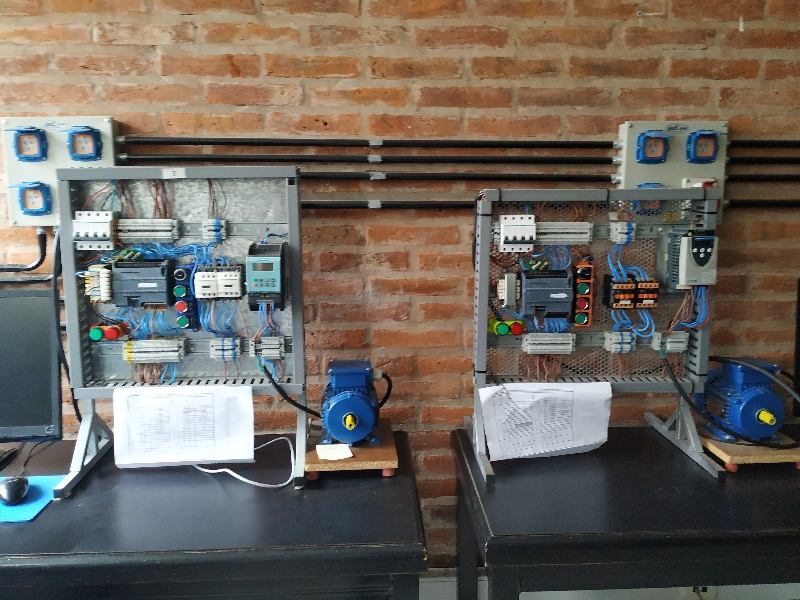Tablero 3: (62, 172, 303, 386)
Tablero 4: (485, 195, 721, 391)
